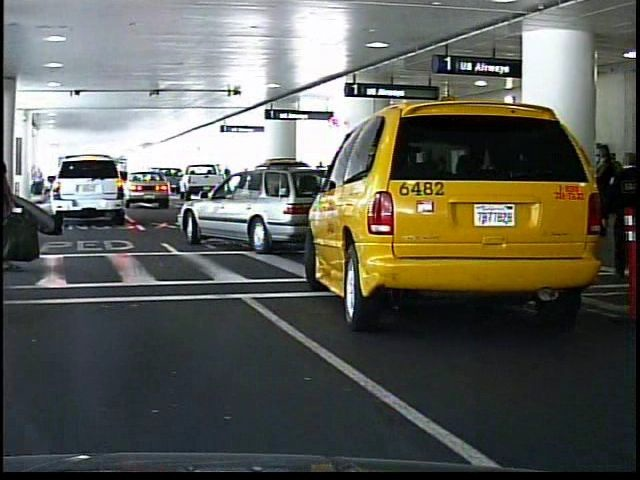person: (585, 142, 621, 276)
